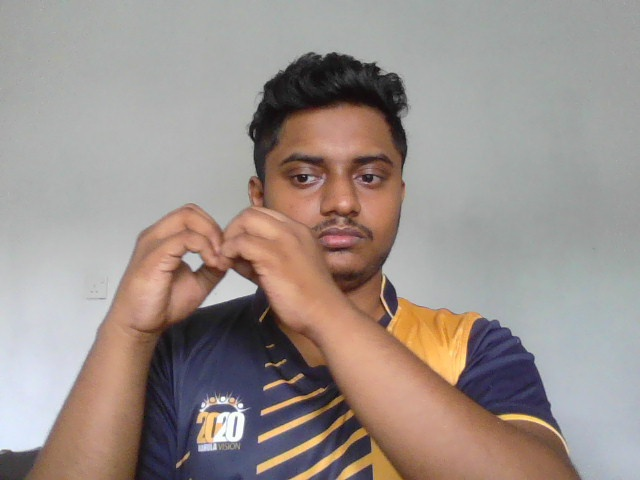More: (120, 202, 332, 337)
